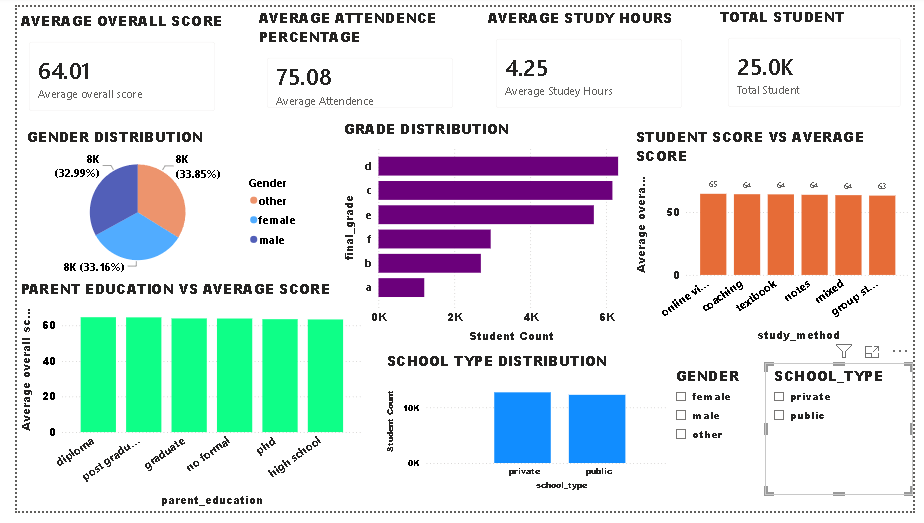

The page's visual inventory and layout, read from the dashboard file:
{"tool":"powerbi","page":{"name":"Page 1","canvas":[1280,720],"ordinal":0},"visuals":[{"type":"cardVisual","title":"TOTAL STUDENT ","fields":{"Data":["studentdata.Total Student"]},"box":[998.3,0,281.7,160],"z":0},{"type":"cardVisual","title":"AVERAGE OVERALL SCORE","fields":{"Data":["studentdata.Average overall score"]},"box":[0,5,300,160],"z":1000},{"type":"cardVisual","title":"AVERAGE ATTENDENCE PERCENTAGE","fields":{"Data":["studentdata.Average Attendence"]},"box":[340,1.7,300,160],"z":2000},{"type":"cardVisual","title":"AVERAGE STUDY HOURS","fields":{"Data":["studentdata.Average Studey Hours"]},"box":[666.7,1.7,300,160],"z":3000},{"type":"clusteredBarChart","title":"GRADE DISTRIBUTION","fields":{"Category":["studentdata.final_grade"],"Y":["studentdata.Student Count"]},"box":[461.7,160,451.7,325],"z":4000},{"type":"pieChart","title":"GENDER DISTRIBUTION","fields":{"Category":["studentdata.gender"],"Y":["studentdata.Student Count"]},"box":[8.3,171.7,406.7,216.7],"z":5000},{"type":"clusteredColumnChart","title":"SCHOOL TYPE DISTRIBUTION","fields":{"Category":["studentdata.school_type"],"Y":["studentdata.Student Count"]},"box":[523.3,491.7,451.7,205],"z":6000},{"type":"clusteredColumnChart","title":"PARENT EDUCATION VS AVERAGE SCORE","fields":{"Category":["studentdata.parent_education"],"Y":["studentdata.Average overall score"]},"box":[0,388.3,498.3,331.7],"z":7000},{"type":"clusteredColumnChart","title":"STUDENT SCORE VS AVERAGE SCORE","fields":{"Category":["studentdata.study_method"],"Y":["studentdata.Average overall score"]},"box":[878.3,171.7,401.7,313.3],"z":8000},{"type":"slicer","fields":{"Values":["studentdata.gender"]},"box":[928.3,508.3,140,205],"z":9000},{"type":"slicer","fields":{"Values":["studentdata.school_type"]},"box":[1068.3,508.3,211.7,188.3],"z":10000}]}

Visuals, with their boxes in screenshot pixels (x1, y1, x2, y2), scaled from the page's 1280x720 canvas onto the 924x523 screenshot:
"TOTAL STUDENT " cardVisual: x1=721 y1=0 x2=923 y2=116
"AVERAGE OVERALL SCORE" cardVisual: x1=0 y1=4 x2=217 y2=120
"AVERAGE ATTENDENCE PERCENTAGE" cardVisual: x1=245 y1=1 x2=462 y2=117
"AVERAGE STUDY HOURS" cardVisual: x1=481 y1=1 x2=698 y2=117
"GRADE DISTRIBUTION" clusteredBarChart: x1=333 y1=116 x2=659 y2=352
"GENDER DISTRIBUTION" pieChart: x1=6 y1=125 x2=300 y2=282
"SCHOOL TYPE DISTRIBUTION" clusteredColumnChart: x1=378 y1=357 x2=704 y2=506
"PARENT EDUCATION VS AVERAGE SCORE" clusteredColumnChart: x1=0 y1=282 x2=360 y2=522
"STUDENT SCORE VS AVERAGE SCORE" clusteredColumnChart: x1=634 y1=125 x2=923 y2=352
slicer - studentdata.gender: x1=670 y1=369 x2=771 y2=518
slicer - studentdata.school_type: x1=771 y1=369 x2=923 y2=506
